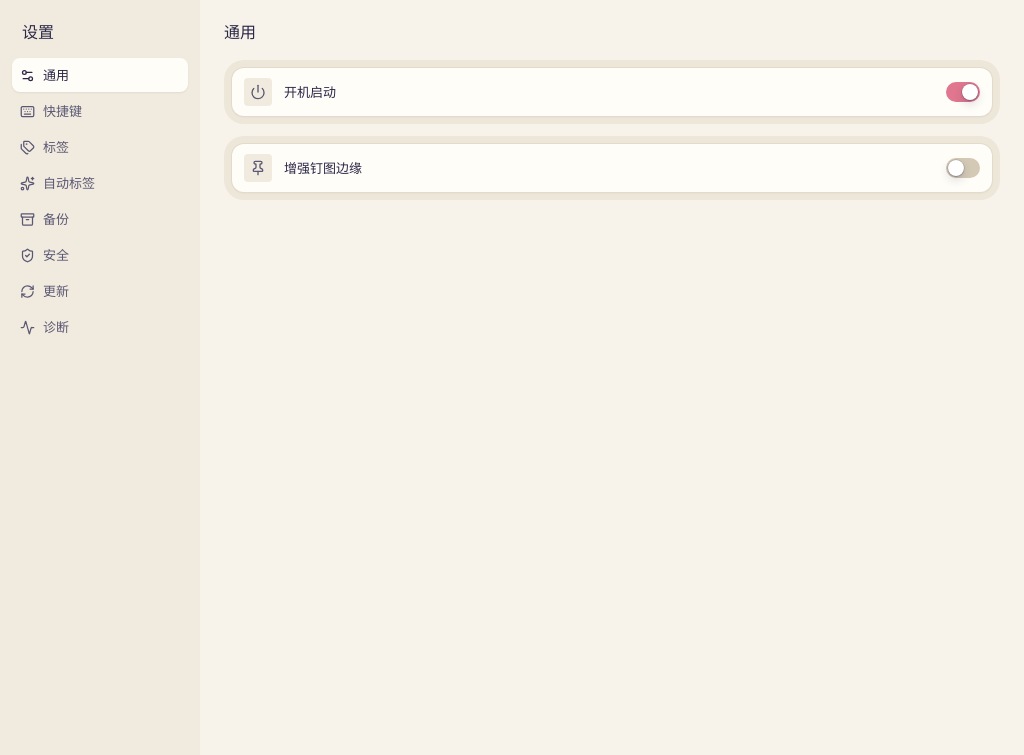
it: 设置：常驻与快捷键 › 显示开机自启和每个动作的快捷键，没生效的键标出未注册及原因
Click the tab "快捷键": (100, 111) [12,94,188,128]
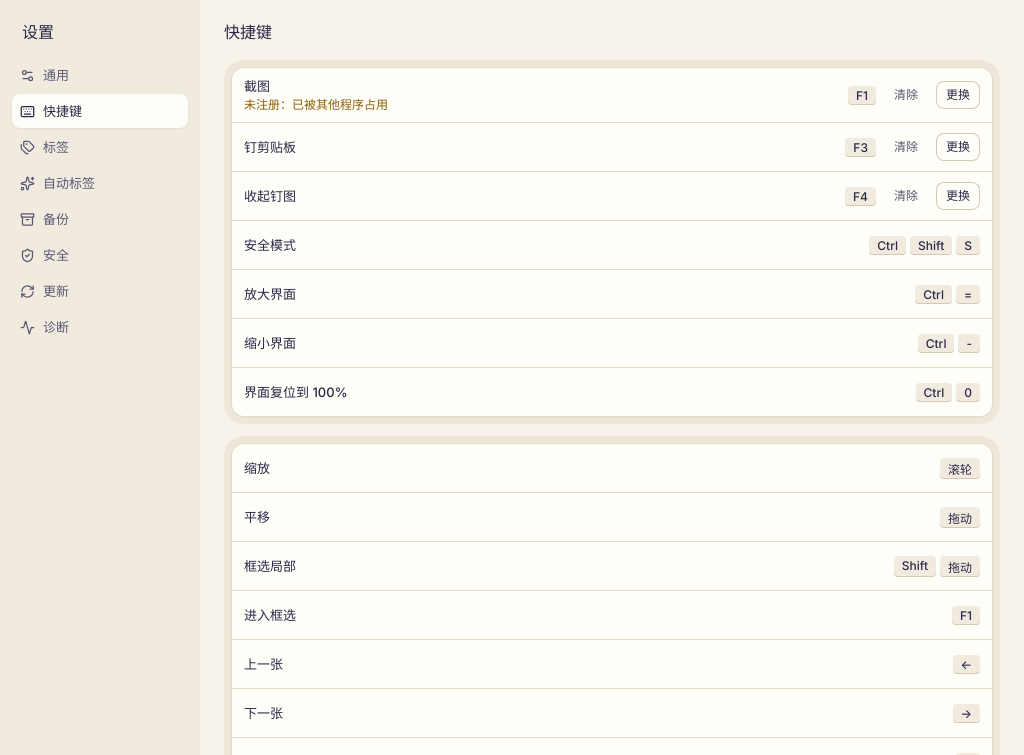
Now the heading "快捷键" is shown, box [224,22,272,42]
Now the text "F1" in the row of "未注册：已被其他程序占用" is shown, box [856,88,868,102]
Now the text "未注册：已被其他程序占用" is shown, box [244,97,388,112]
